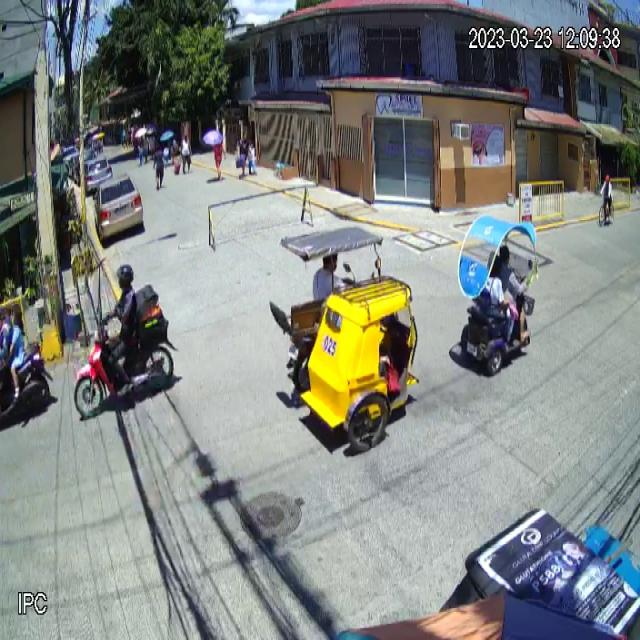Car: (93, 172, 144, 243)
Motorcycle: (73, 320, 178, 421)
Tricycle: (269, 226, 421, 453)
